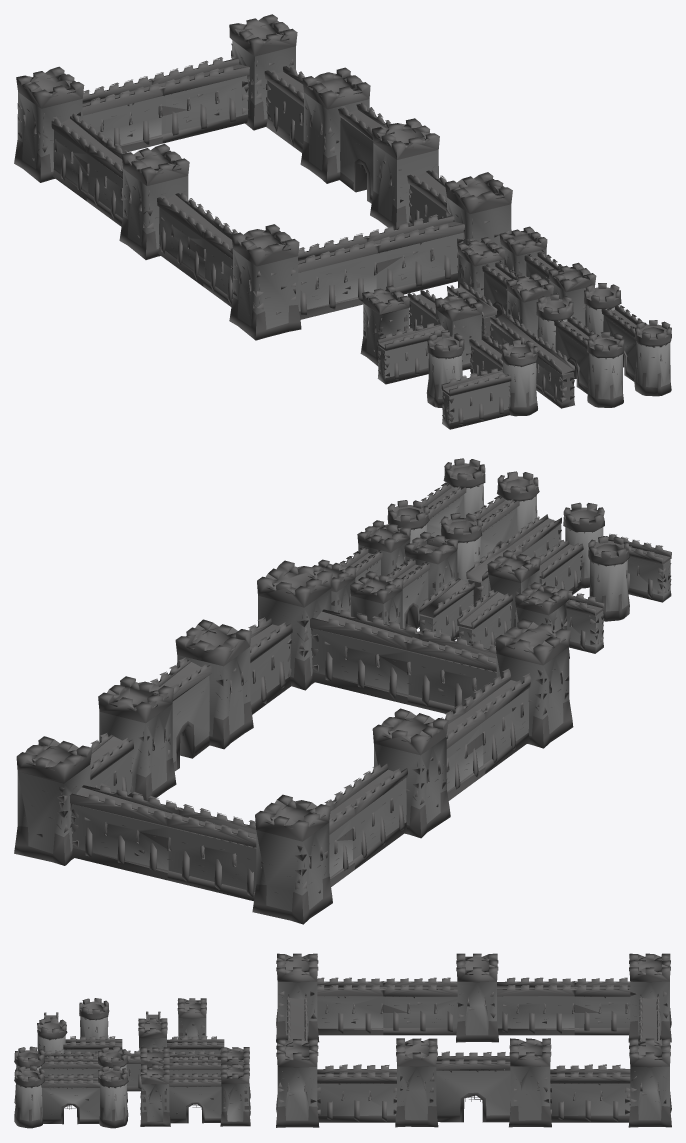
Rendered from free-modular-castle-kit.glb.
The picture shows the model from 3 angles, top to bottom: view 1: azimuth 30°, elevation 25°; view 2: azimuth 150°, elevation 25°; view 3: azimuth 270°, elevation 25°; orthographic projection. The views are drawn at different scales.
Visible parts, largest first — view 1: PreviewOnly, Corer_2, Corner_1, Gate_2_Open, Gate_2, Gate_1_Open, Gate_1, Wall_Double, Tower_1, Tower_2, Wall_Single; view 2: PreviewOnly, Corner_1, Corer_2, Gate_1_Open, Gate_2_Open, Gate_2, Gate_1, Tower_2, Wall_Double, Wall_Single, Tower_1; view 3: PreviewOnly, Gate_1, Gate_2, Gate_2_Open, Gate_1_Open, Corner_1, Corer_2, Tower_1, Tower_2, Wall_Double, Wall_Single.
Part boxes in pixels (x1,y1,x2,y2): PreviewOnly: [14, 14, 512, 340]; Corer_2: [441, 336, 537, 429]; Corner_1: [377, 289, 482, 384]; Gate_2_Open: [536, 294, 624, 407]; Gate_2: [584, 283, 671, 396]; Gate_1_Open: [457, 237, 553, 336]; Gate_1: [499, 226, 596, 327]; Wall_Double: [490, 313, 575, 408]; Tower_1: [360, 285, 409, 366]; Tower_2: [426, 332, 464, 407]; Wall_Single: [447, 282, 497, 339]; PreviewOnly: [14, 560, 573, 924]; Corner_1: [457, 550, 604, 653]; Corer_2: [539, 502, 671, 602]; Gate_1_Open: [350, 531, 458, 629]; Gate_2_Open: [441, 471, 539, 582]; Gate_2: [387, 458, 485, 543]; Gate_1: [312, 520, 410, 614]; Tower_2: [588, 536, 629, 621]; Wall_Double: [466, 514, 561, 606]; Wall_Single: [419, 578, 474, 640]; Tower_1: [515, 582, 569, 658]; PreviewOnly: [276, 953, 671, 1127]; Gate_1: [140, 1064, 250, 1126]; Gate_2: [14, 1065, 128, 1128]; Gate_2_Open: [14, 1046, 128, 1103]; Gate_1_Open: [140, 1047, 250, 1109]; Corner_1: [138, 1011, 224, 1054]; Corer_2: [37, 1012, 122, 1053]; Tower_1: [177, 998, 206, 1039]; Tower_2: [79, 998, 109, 1039]; Wall_Double: [44, 1050, 141, 1091]; Wall_Single: [169, 1050, 220, 1059].
Bounding box in the file's own units: 53.49 × 16.97 × 141.
1 material, 1 textured.
